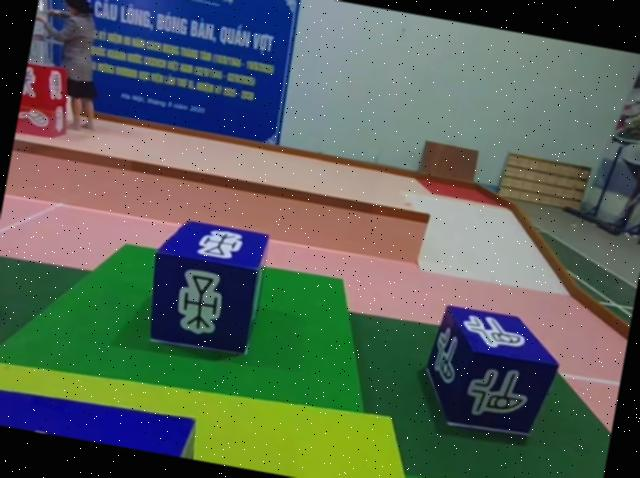R2 Real Blue: (415, 301, 565, 442), (138, 217, 270, 362)
